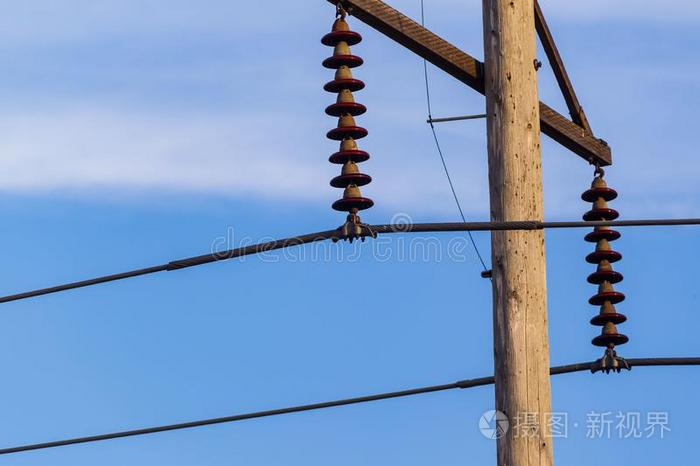insulator: (318, 29, 378, 217), (581, 185, 631, 347)
